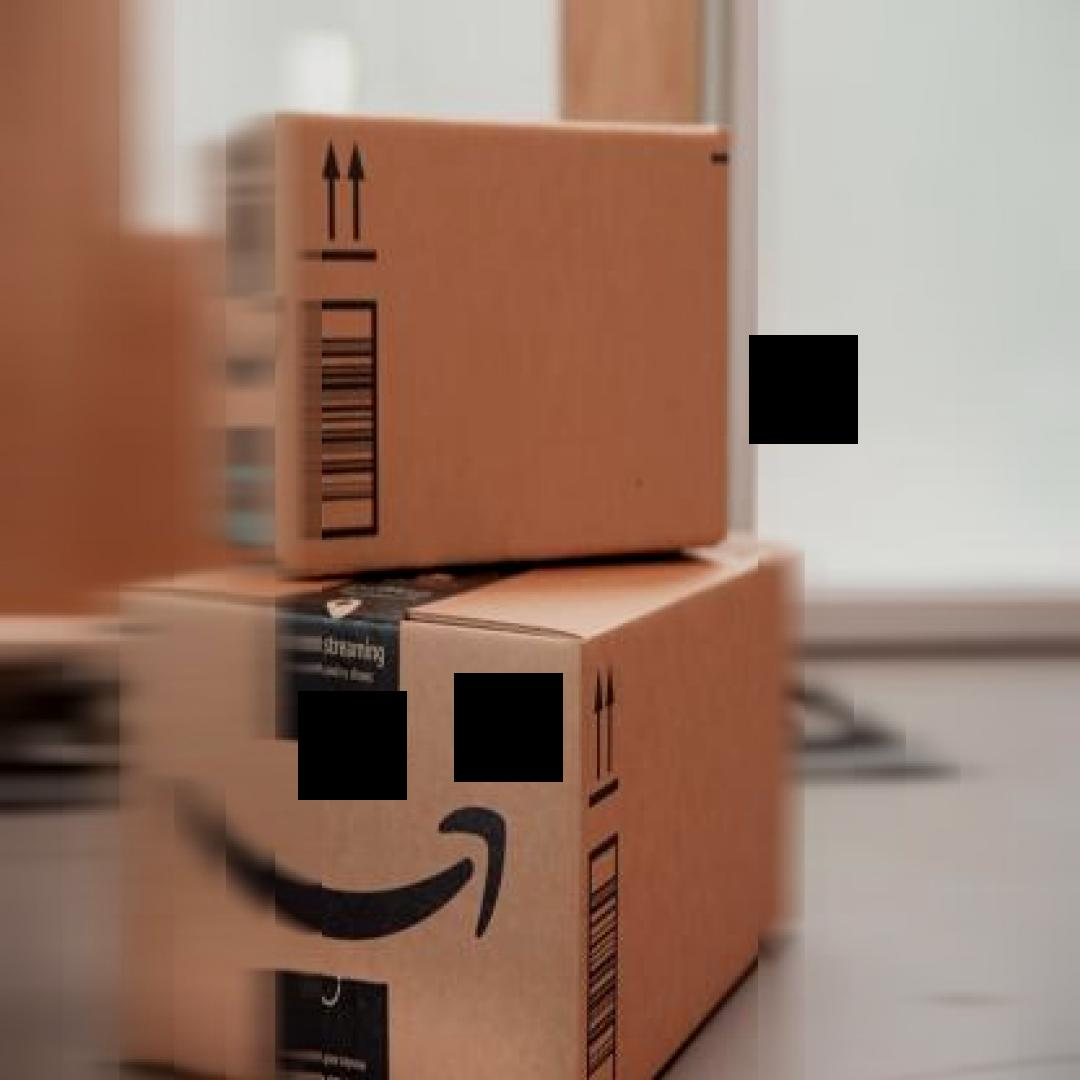package: (114, 526, 794, 1078), (208, 104, 732, 582)
